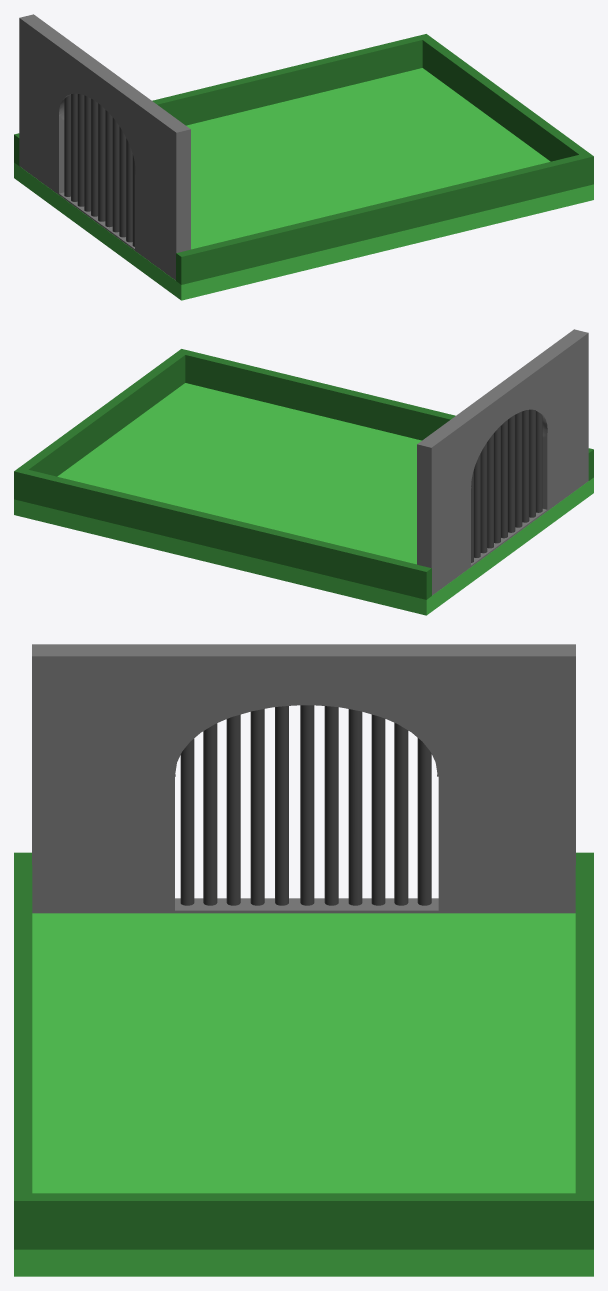
3 views of the same model, one above another, from view 1: azimuth 30°, elevation 25°; view 2: azimuth 150°, elevation 25°; view 3: azimuth 270°, elevation 25° (orthographic). The views are drawn at different scales.
Parts seen in each view (by area): view 1: pCube7, pCube6, pasted__pasted__pasted__pCylinder2 (×5), pasted__pasted__pCylinder2 (×4), pasted__pCylinder2; view 2: pCube7, pCube6, pasted__pasted__pasted__pCylinder2 (×5), pasted__pasted__pCylinder2 (×4), pasted__pCylinder2; view 3: pCube7, pCube6, pasted__pasted__pasted__pCylinder2 (×6), pasted__pasted__pCylinder2 (×4), pasted__pCylinder2.
Boxes of the visible parts, box(x1,y1,x2,y2) form: pCube7: box(14, 34, 593, 300); pCube6: box(19, 14, 190, 280); pasted__pasted__pasted__pCylinder2 (×5): box(64, 94, 125, 237); pasted__pasted__pCylinder2 (×4): box(84, 95, 132, 242); pasted__pCylinder2: box(71, 93, 77, 201); pCube7: box(14, 349, 593, 615); pCube6: box(417, 329, 588, 595); pasted__pasted__pasted__pCylinder2 (×5): box(480, 410, 542, 553); pasted__pasted__pCylinder2 (×4): box(487, 409, 535, 548); pasted__pCylinder2: box(474, 454, 480, 557); pCube7: box(14, 852, 593, 1276); pCube6: box(32, 644, 575, 913); pasted__pasted__pasted__pCylinder2 (×6): box(180, 706, 431, 905); pasted__pasted__pCylinder2 (×4): box(203, 705, 362, 905); pasted__pCylinder2: box(394, 723, 408, 905).
Bounding box in the file's own units: 0.0224 × 0.00851 × 0.0158.
